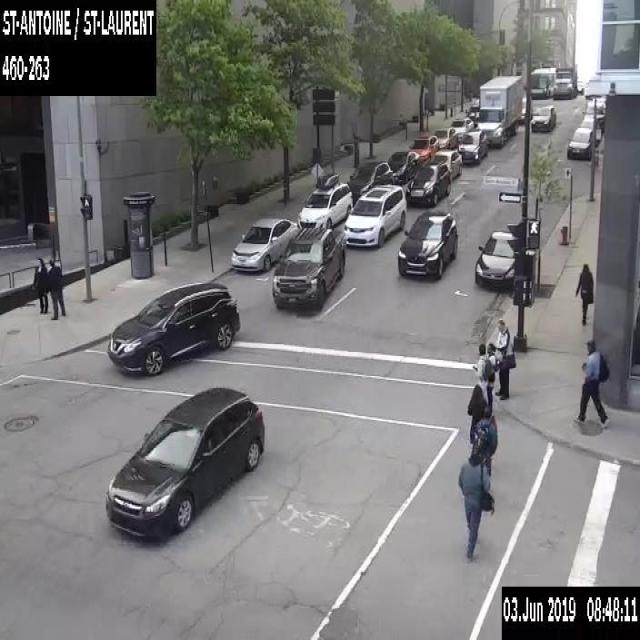bus: (530, 66, 555, 97)
construction: (310, 161, 323, 187)
pedestrian: (457, 447, 494, 564), (573, 338, 611, 429), (494, 317, 516, 400), (472, 404, 497, 476), (466, 383, 491, 444), (574, 262, 594, 326), (46, 256, 66, 318), (472, 342, 491, 403), (486, 342, 502, 403), (32, 258, 48, 314)
vehicle: (105, 384, 265, 541), (106, 280, 241, 373), (272, 225, 346, 308), (341, 183, 406, 247), (398, 209, 458, 278), (231, 216, 300, 271), (476, 73, 522, 145), (296, 172, 352, 228), (473, 229, 517, 291), (346, 160, 398, 202), (405, 158, 450, 205), (388, 150, 420, 183), (458, 128, 487, 164), (432, 148, 462, 180), (552, 62, 577, 98), (408, 134, 440, 162), (567, 127, 592, 159), (530, 104, 556, 131), (448, 116, 473, 140), (582, 101, 604, 128), (433, 125, 457, 148), (580, 117, 601, 140), (518, 95, 532, 124), (464, 103, 480, 126), (591, 96, 606, 112), (577, 77, 584, 93)
